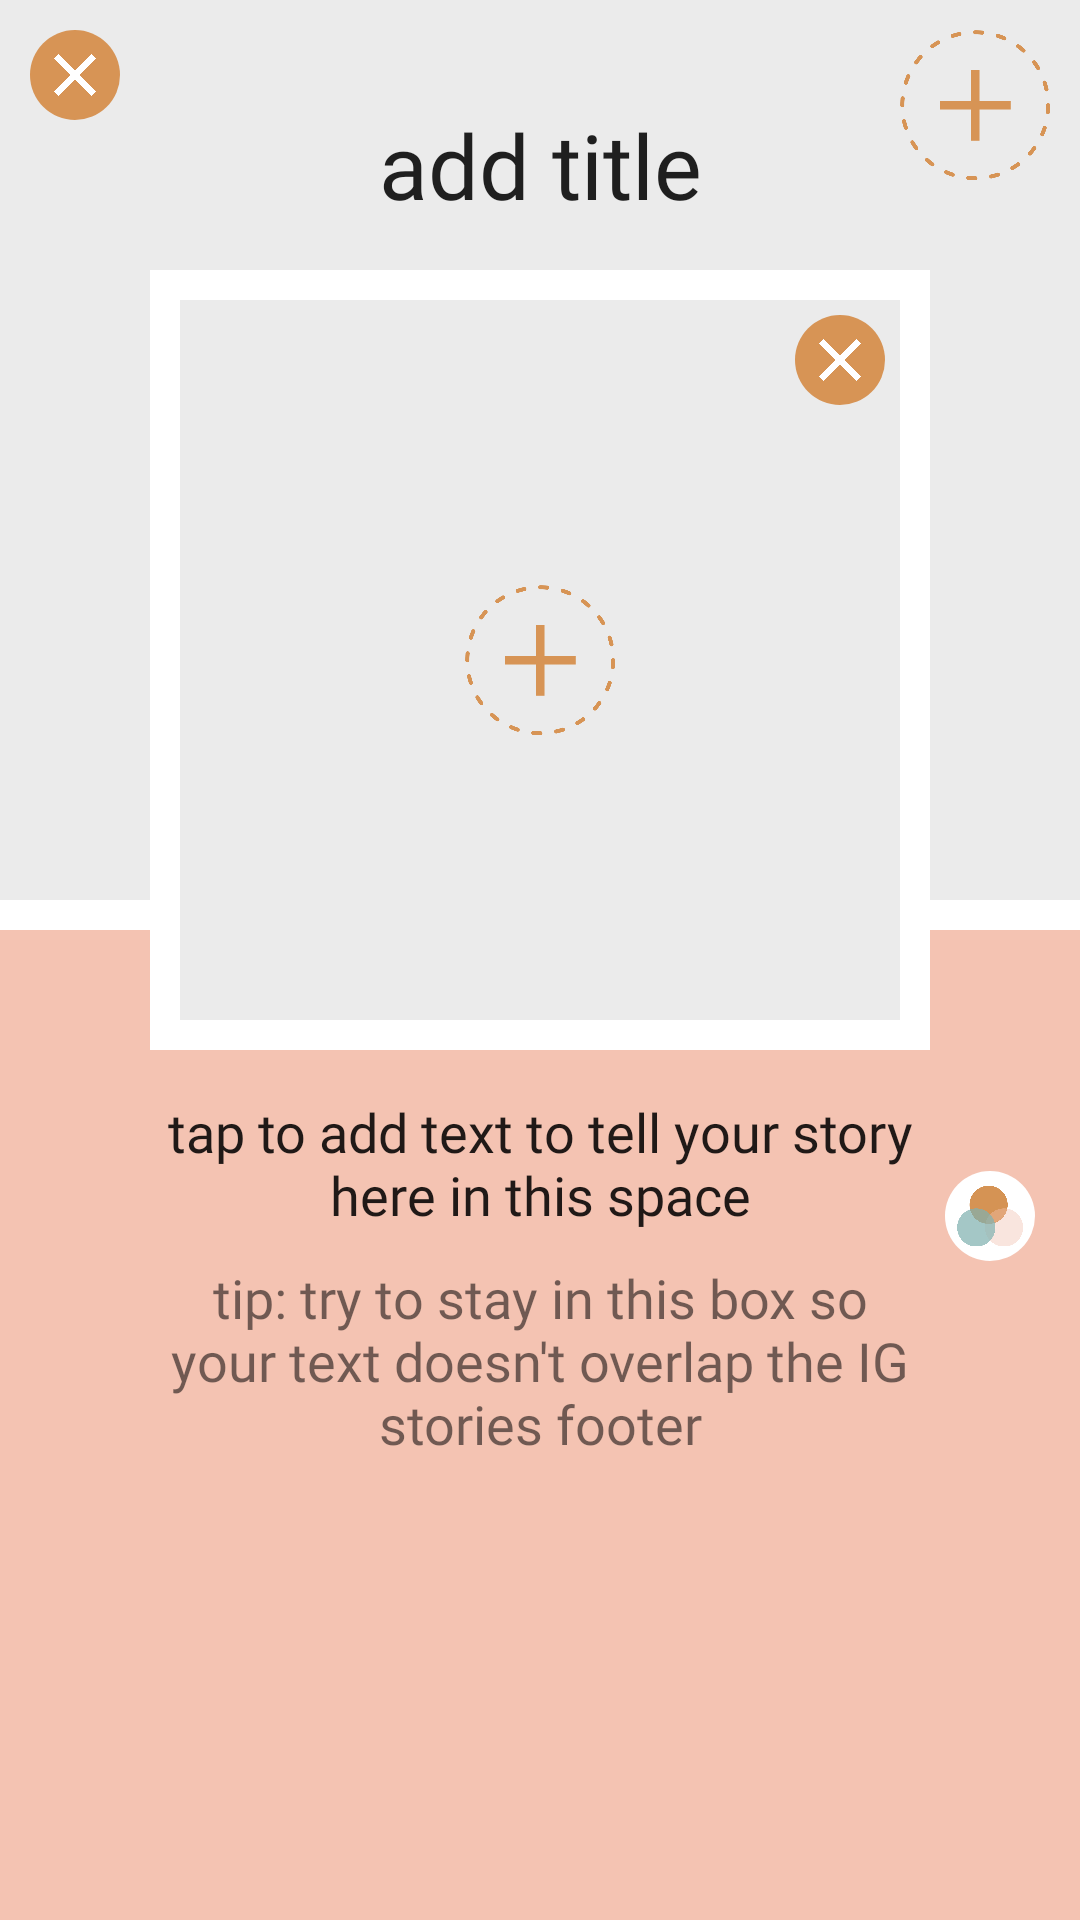

Icons on this 1080*1920 Android screen, each with its box as {"left": x1, "top": y1, "right": x2, "bottom": y2}:
add story: {"left": 900, "top": 30, "right": 1050, "bottom": 180}, {"left": 465, "top": 585, "right": 615, "bottom": 735}
